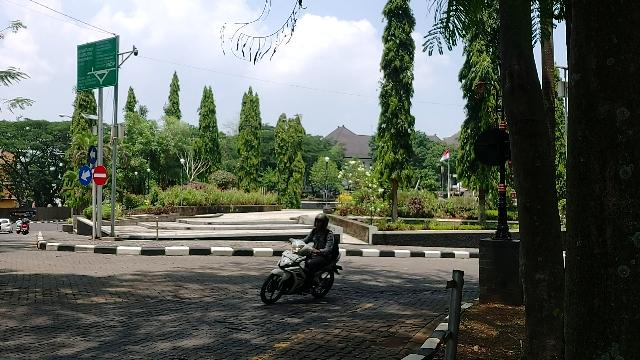helm: (316, 214, 330, 228)
motor: (263, 240, 344, 304)
